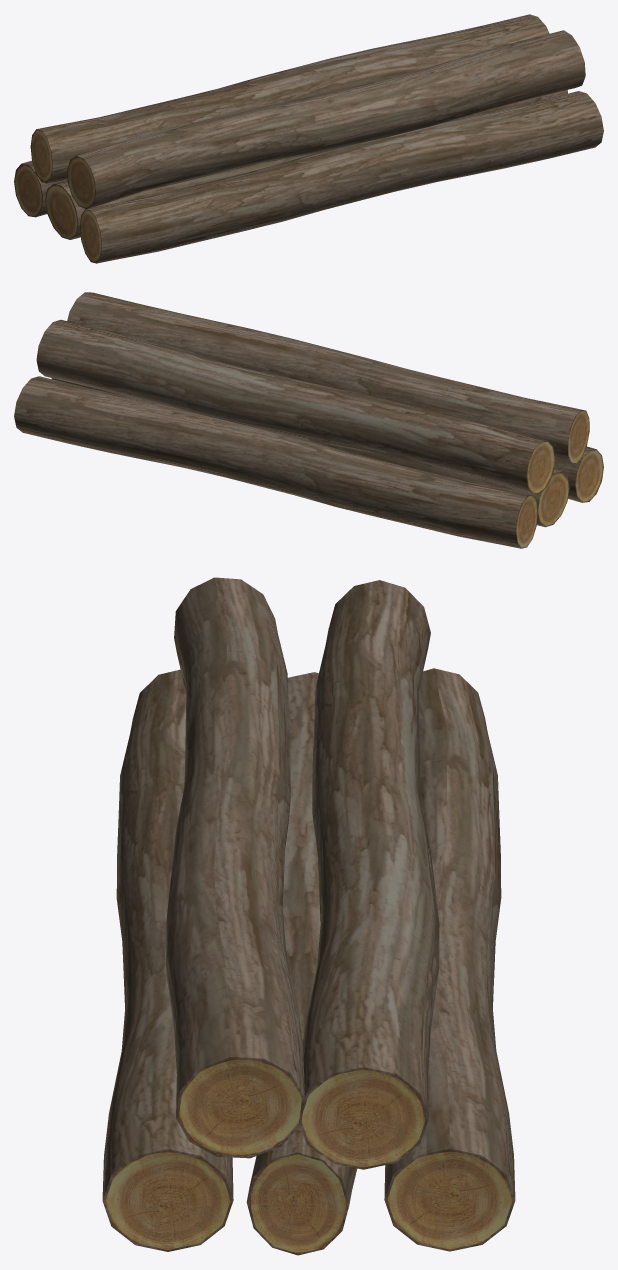
File: sk_logpile.glb
3 renders of one model, top to bottom at view 1: azimuth 30°, elevation 25°; view 2: azimuth 150°, elevation 25°; view 3: azimuth 270°, elevation 25°, orthographic. The views are drawn at different scales.
Parts seen in each view (by area): view 1: Cylinder.008; view 2: Cylinder.008; view 3: Cylinder.008.
Boxes of the visible parts, x1,y1,x2,y2 form: Cylinder.008: (14,14,603,263); Cylinder.008: (14,292,603,548); Cylinder.008: (102,577,515,1255).
Size of the model in its own units: 3.11 by 0.5852 by 1.11.
1 material, 1 textured.
